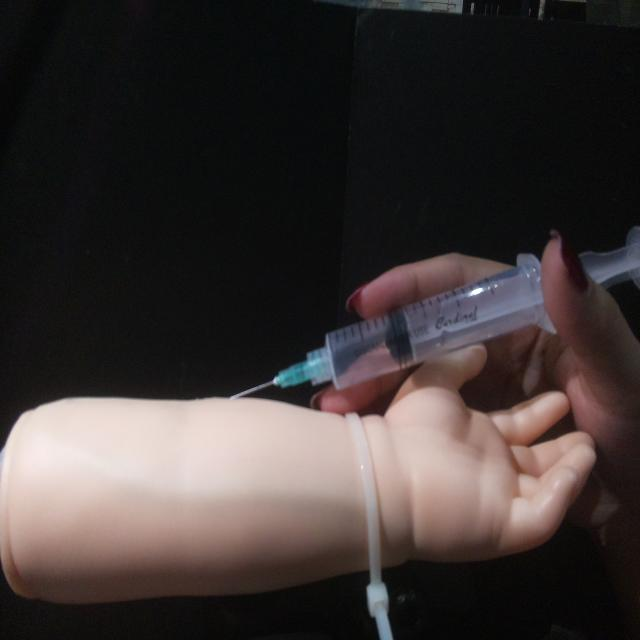19deg: (227, 224, 638, 403)
